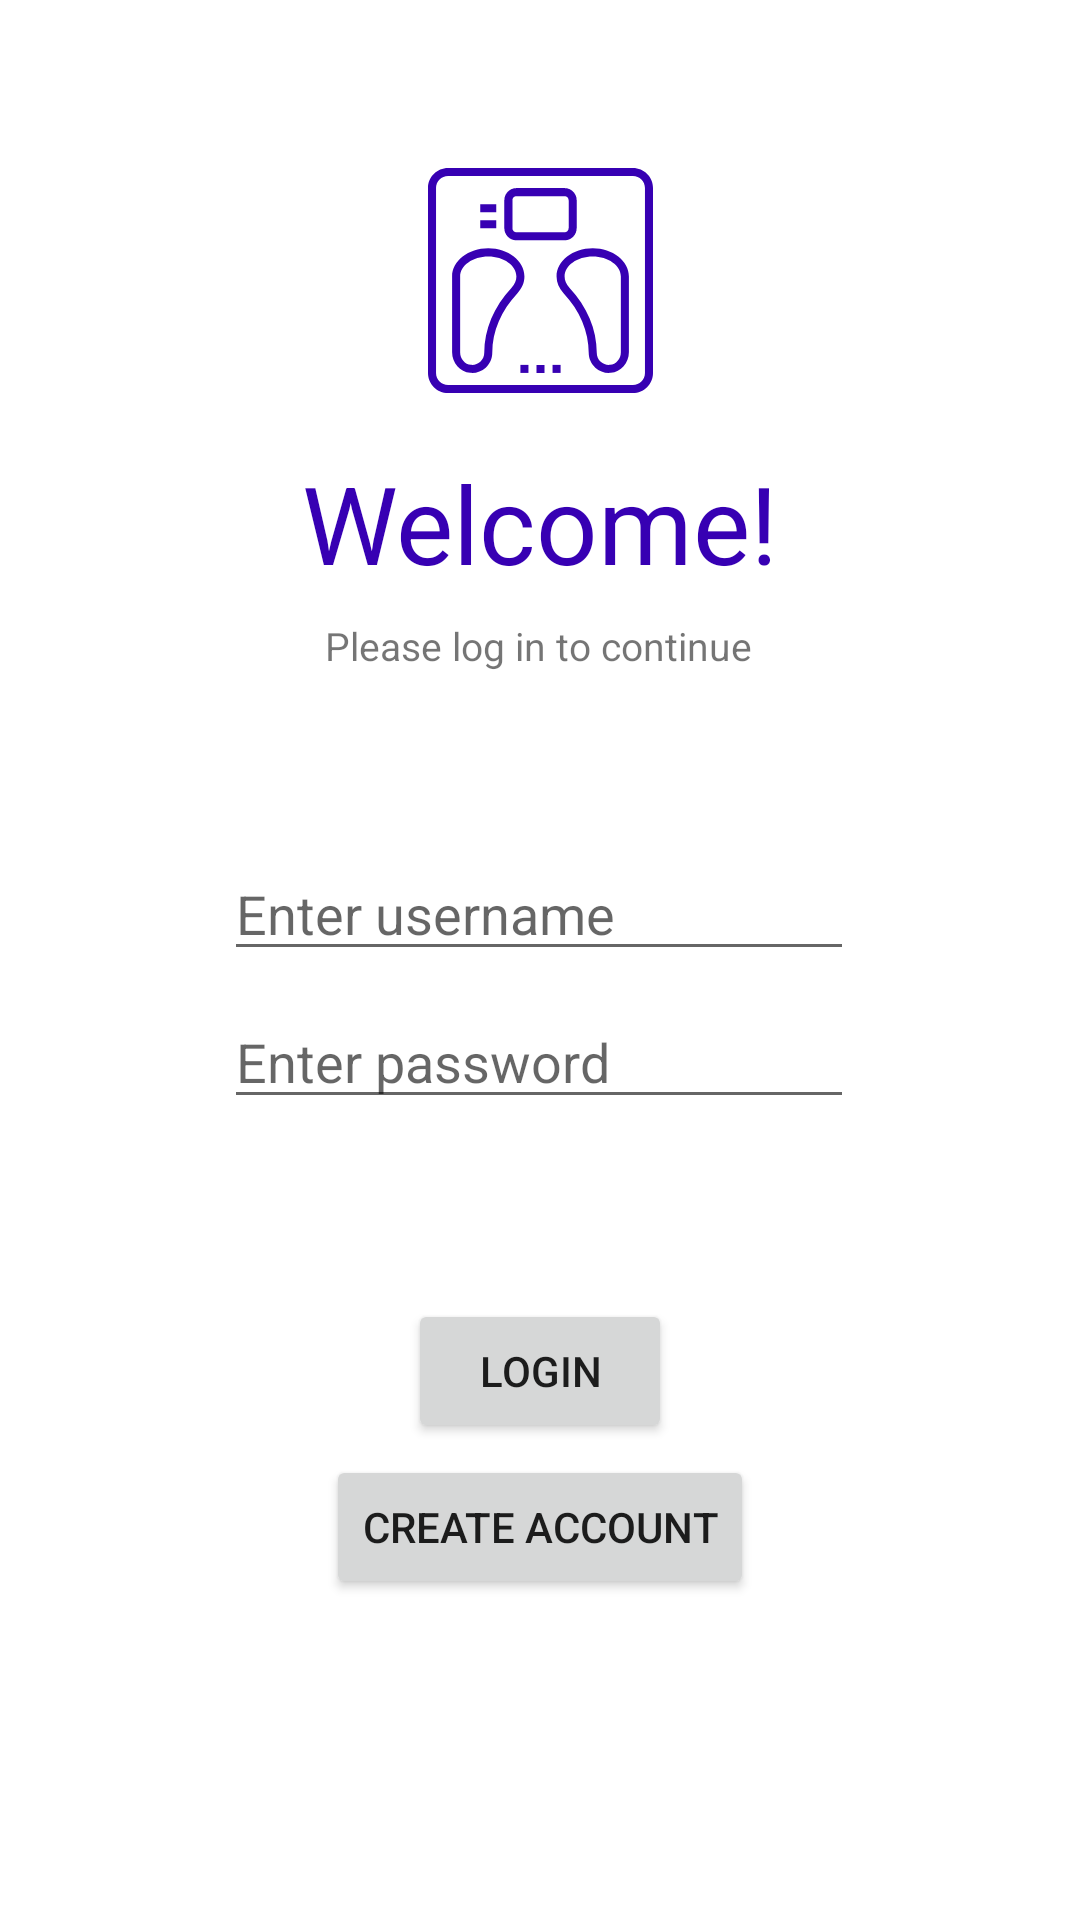

Icon bounding boxes for this 1080×1920 phone screenshot, format (x1, y1, x2, y2):
weight scale: (428, 168, 653, 393)
